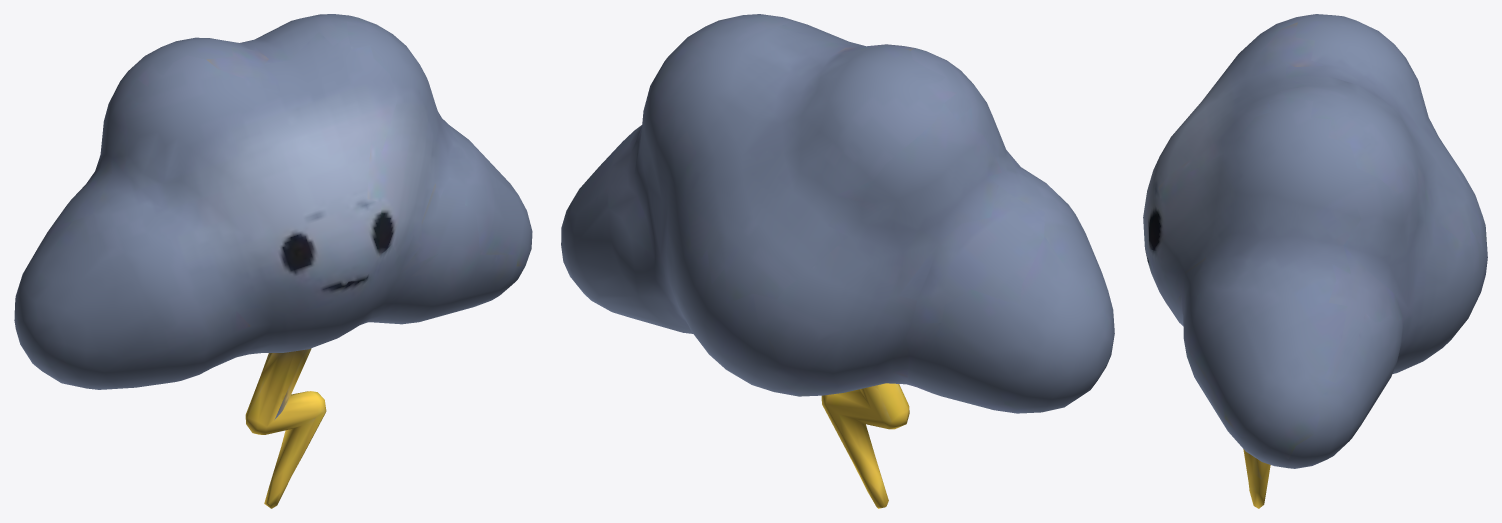
The model's file is item.cloud.glb.
3 renders of one model, left to right at view 1: azimuth 30°, elevation 25°; view 2: azimuth 150°, elevation 25°; view 3: azimuth 270°, elevation 25°, orthographic. The views are drawn at different scales.
Parts seen in each view (by area): view 1: cloud; view 2: cloud; view 3: cloud.
Boxes of the visible parts, <box> form: cloud: <box>14,14,532,508</box>; cloud: <box>561,14,1114,508</box>; cloud: <box>1143,14,1487,508</box>.
Size of the model in its own units: 1.03 by 0.8933 by 0.6003.
Materials: 1 (1 with a texture image).
